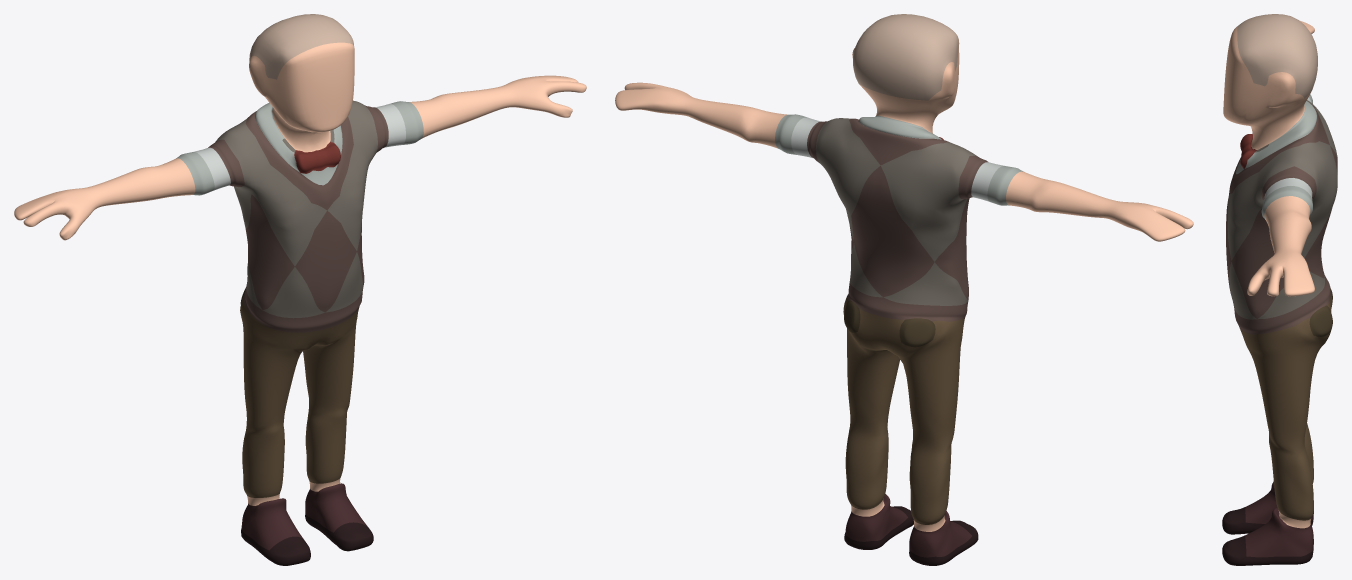
Rendered from SK_Chr_Kid_Nerd_01_rounded.fbx.
3 views of the same model, side by side, from view 1: azimuth 30°, elevation 25°; view 2: azimuth 150°, elevation 25°; view 3: azimuth 270°, elevation 25° (orthographic).
Visible parts, largest first — view 1: SK_Chr_Kid_Nerd_01; view 2: SK_Chr_Kid_Nerd_01; view 3: SK_Chr_Kid_Nerd_01.
Part boxes in pixels (bbox=[...]): SK_Chr_Kid_Nerd_01: bbox=[14, 14, 586, 565]; SK_Chr_Kid_Nerd_01: bbox=[615, 14, 1193, 565]; SK_Chr_Kid_Nerd_01: bbox=[1222, 14, 1337, 565].
Size of the model in its own units: 130 by 115 by 23.1.
Materials: 1 (1 with a texture image).
